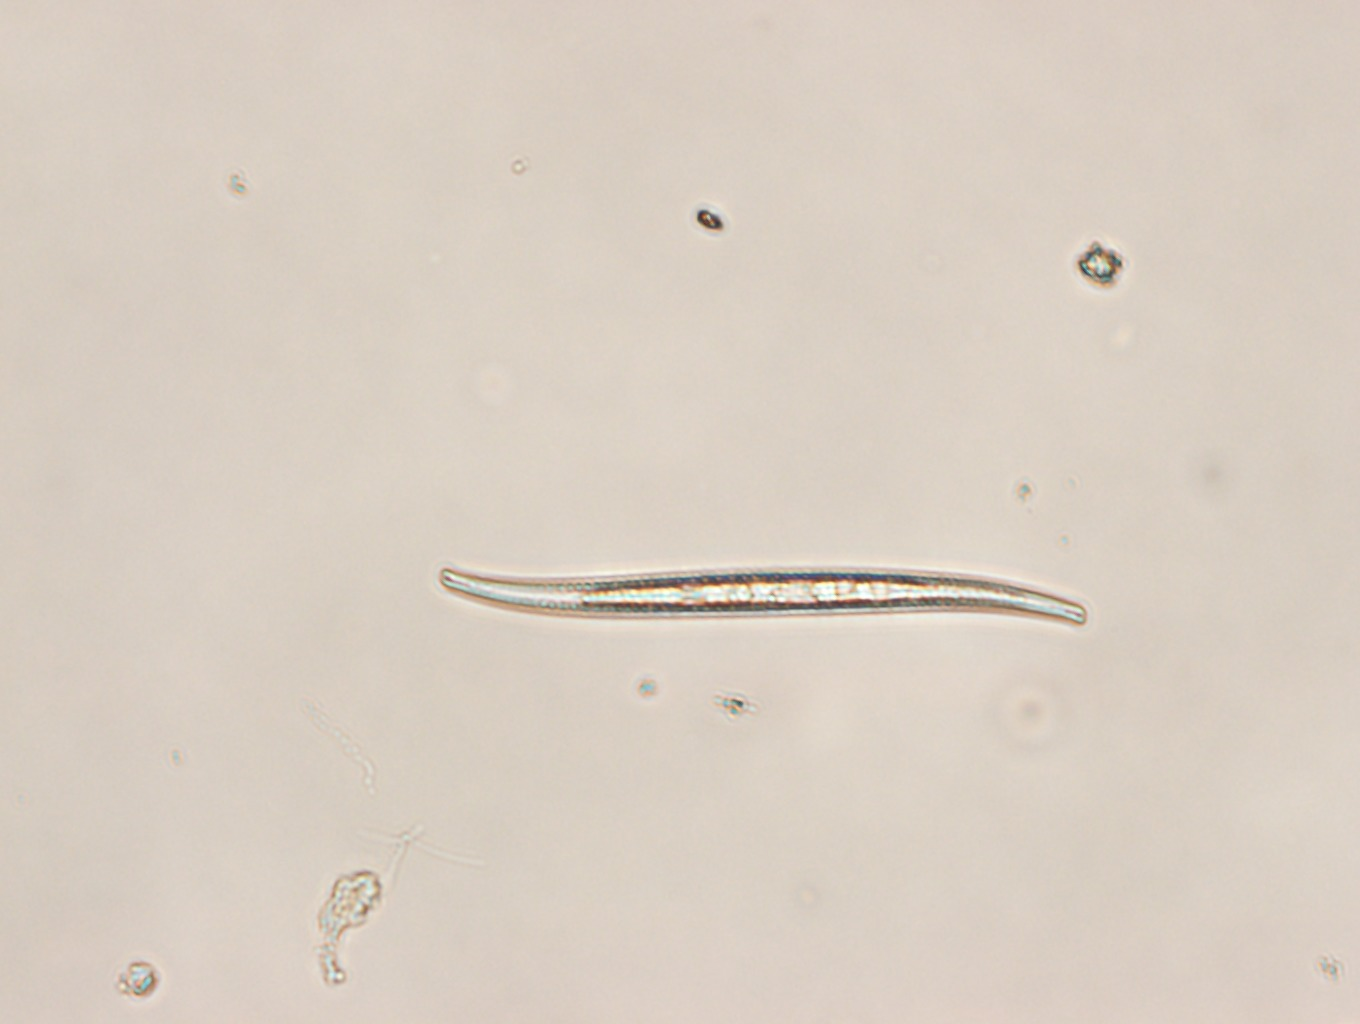pleurosigma pelagicum: (441, 568, 1090, 630)
